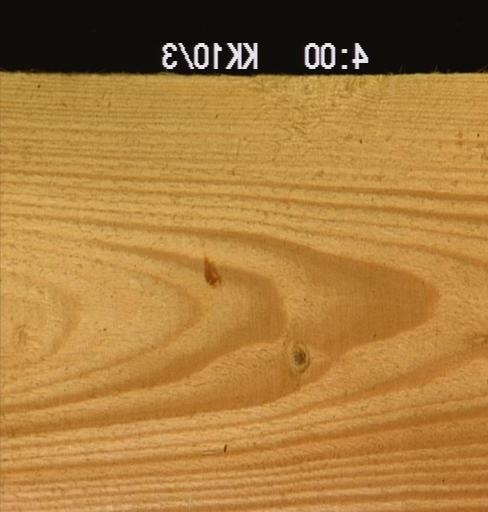sound_knot: (284, 336, 314, 373)
